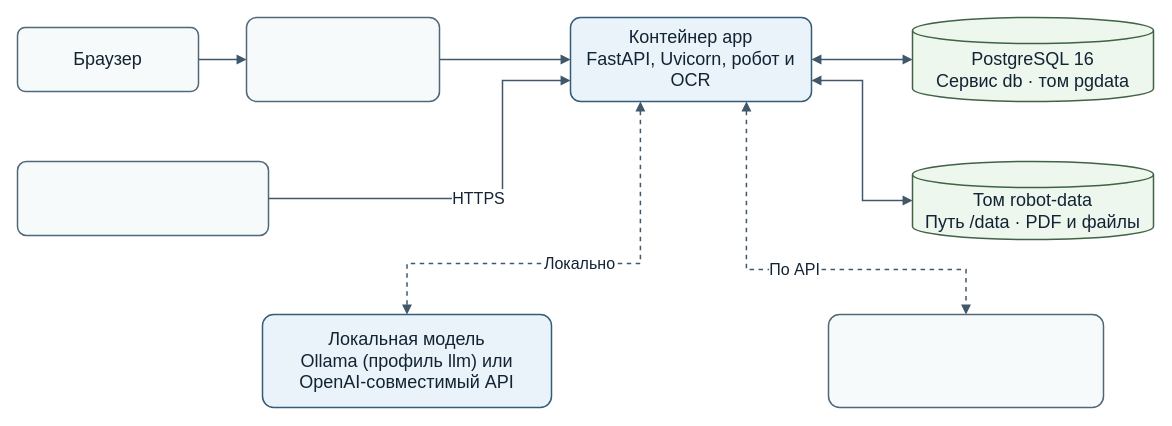
This 1172x426 diagram has some shape labels left out. Here are the shapes that lost their labels. From the top down, the centre of each, then its label:
At (x=342, y=59): "Nginx Профиль https".
At (x=142, y=198): "Сайт ИРНИТУ Каталог и исходные PDF".
At (x=965, y=360): "GigaChat API (Сбер) Внешний сервис".
